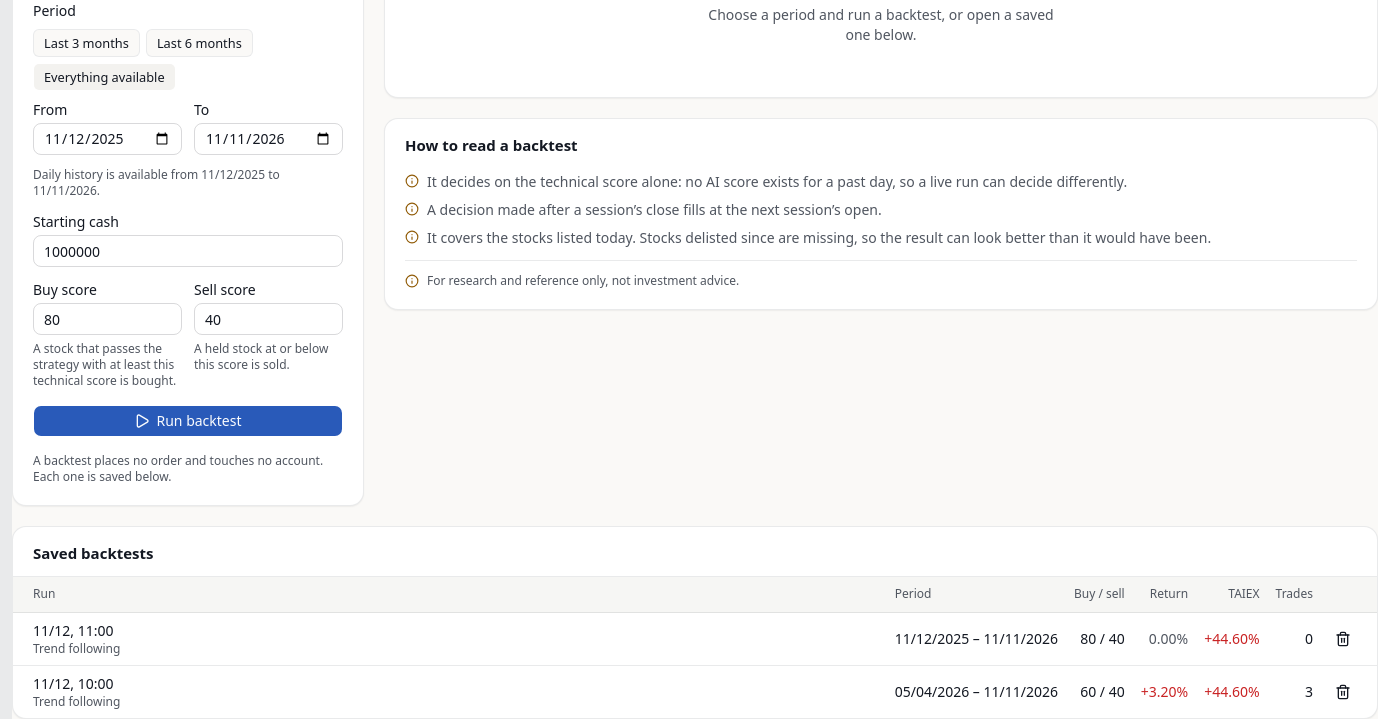
Scenario: the backtest page › lists the saved backtests to compare, opens one, and fills the form with its settings on request
(page scrolled)
Check: the 2nd row shows "11/12/2025 – 11/11/2026", box left=895, top=629, right=1058, bottom=648
Check: the 2nd row shows "80 / 40", box left=1080, top=629, right=1125, bottom=648
What coordinates should you click on to do the following:
click the link "11/12, 10:00 Trend following"
I would click on:
 (77, 692)
Its box is left=33, top=674, right=120, bottom=710.
(page scrolled)
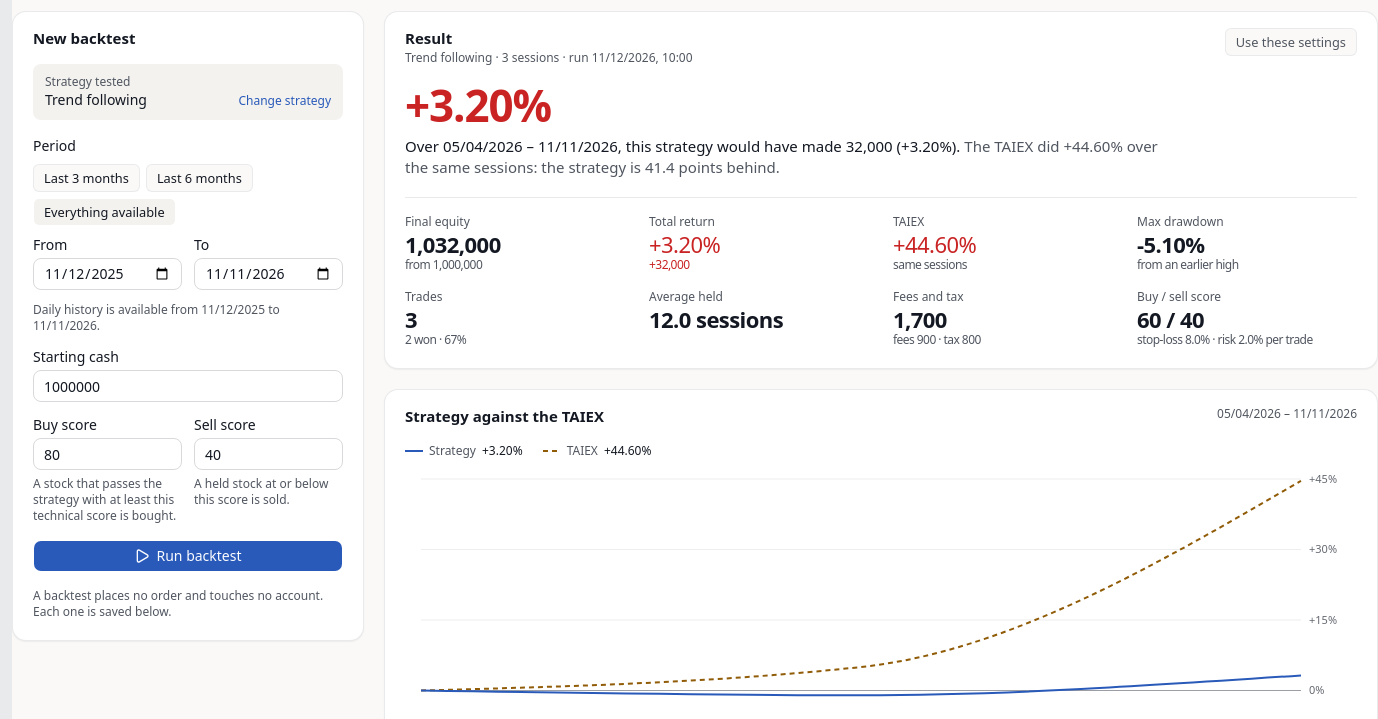
Check: the number field labelled "Buy score" holds "80", box left=33, top=438, right=182, bottom=470
Check: the element with test id "verdict" shows "would have made 32,000 (+3.20%)", box left=405, top=136, right=960, bottom=156
What coordinates should you click on to do the following:
click the button "Use these settings"
I would click on:
 (1291, 42)
Its box is left=1225, top=28, right=1357, bottom=56.
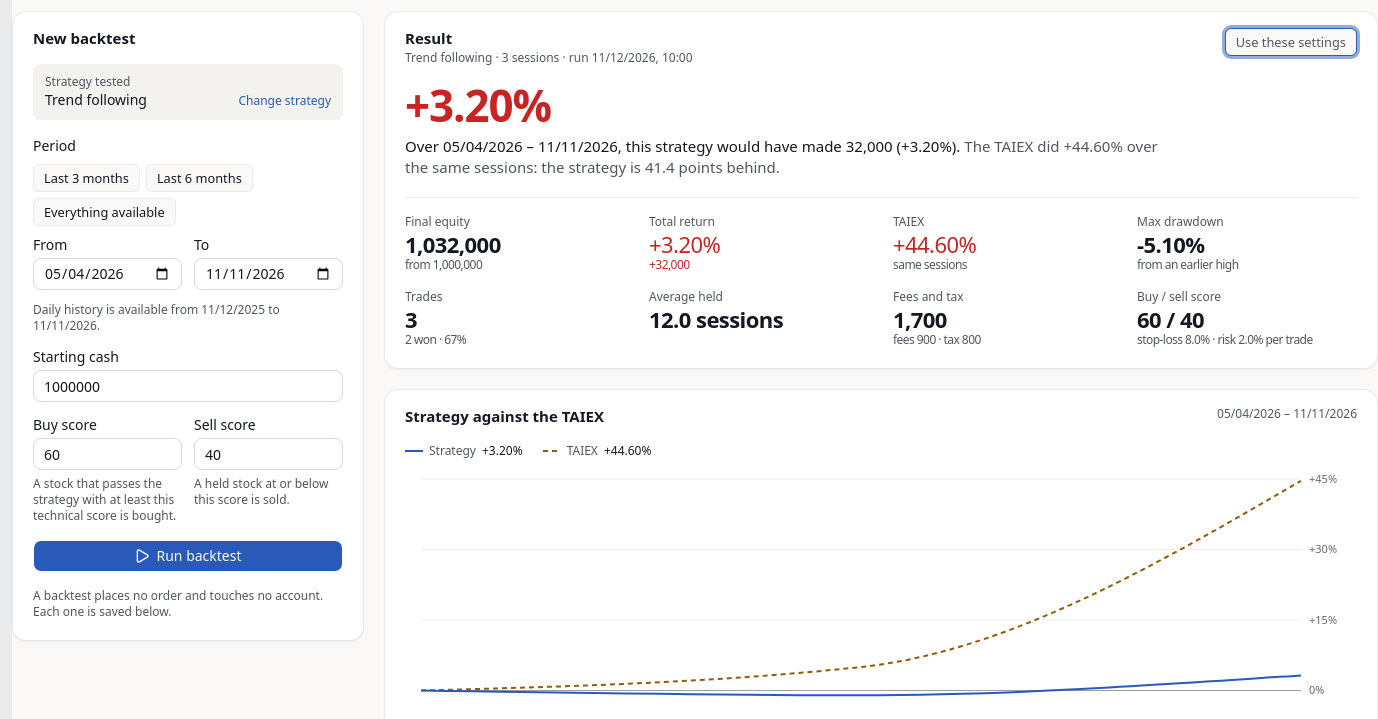
Check: the number field labelled "Buy score" holds "60", box left=33, top=438, right=182, bottom=470
Check: the date field labelled "From" holds "2026-05-04", box left=33, top=258, right=182, bottom=290
